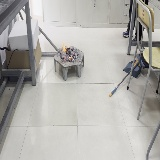fire: (63, 42, 70, 52), (69, 57, 72, 60)
